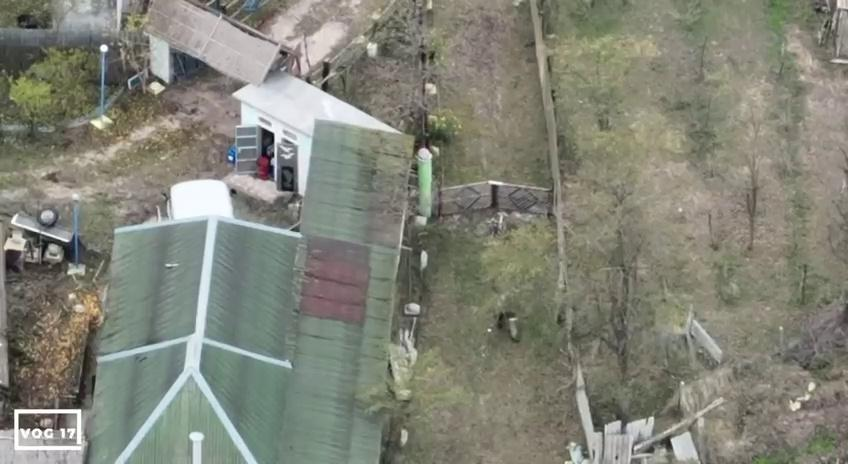person: (492, 283, 525, 349)
